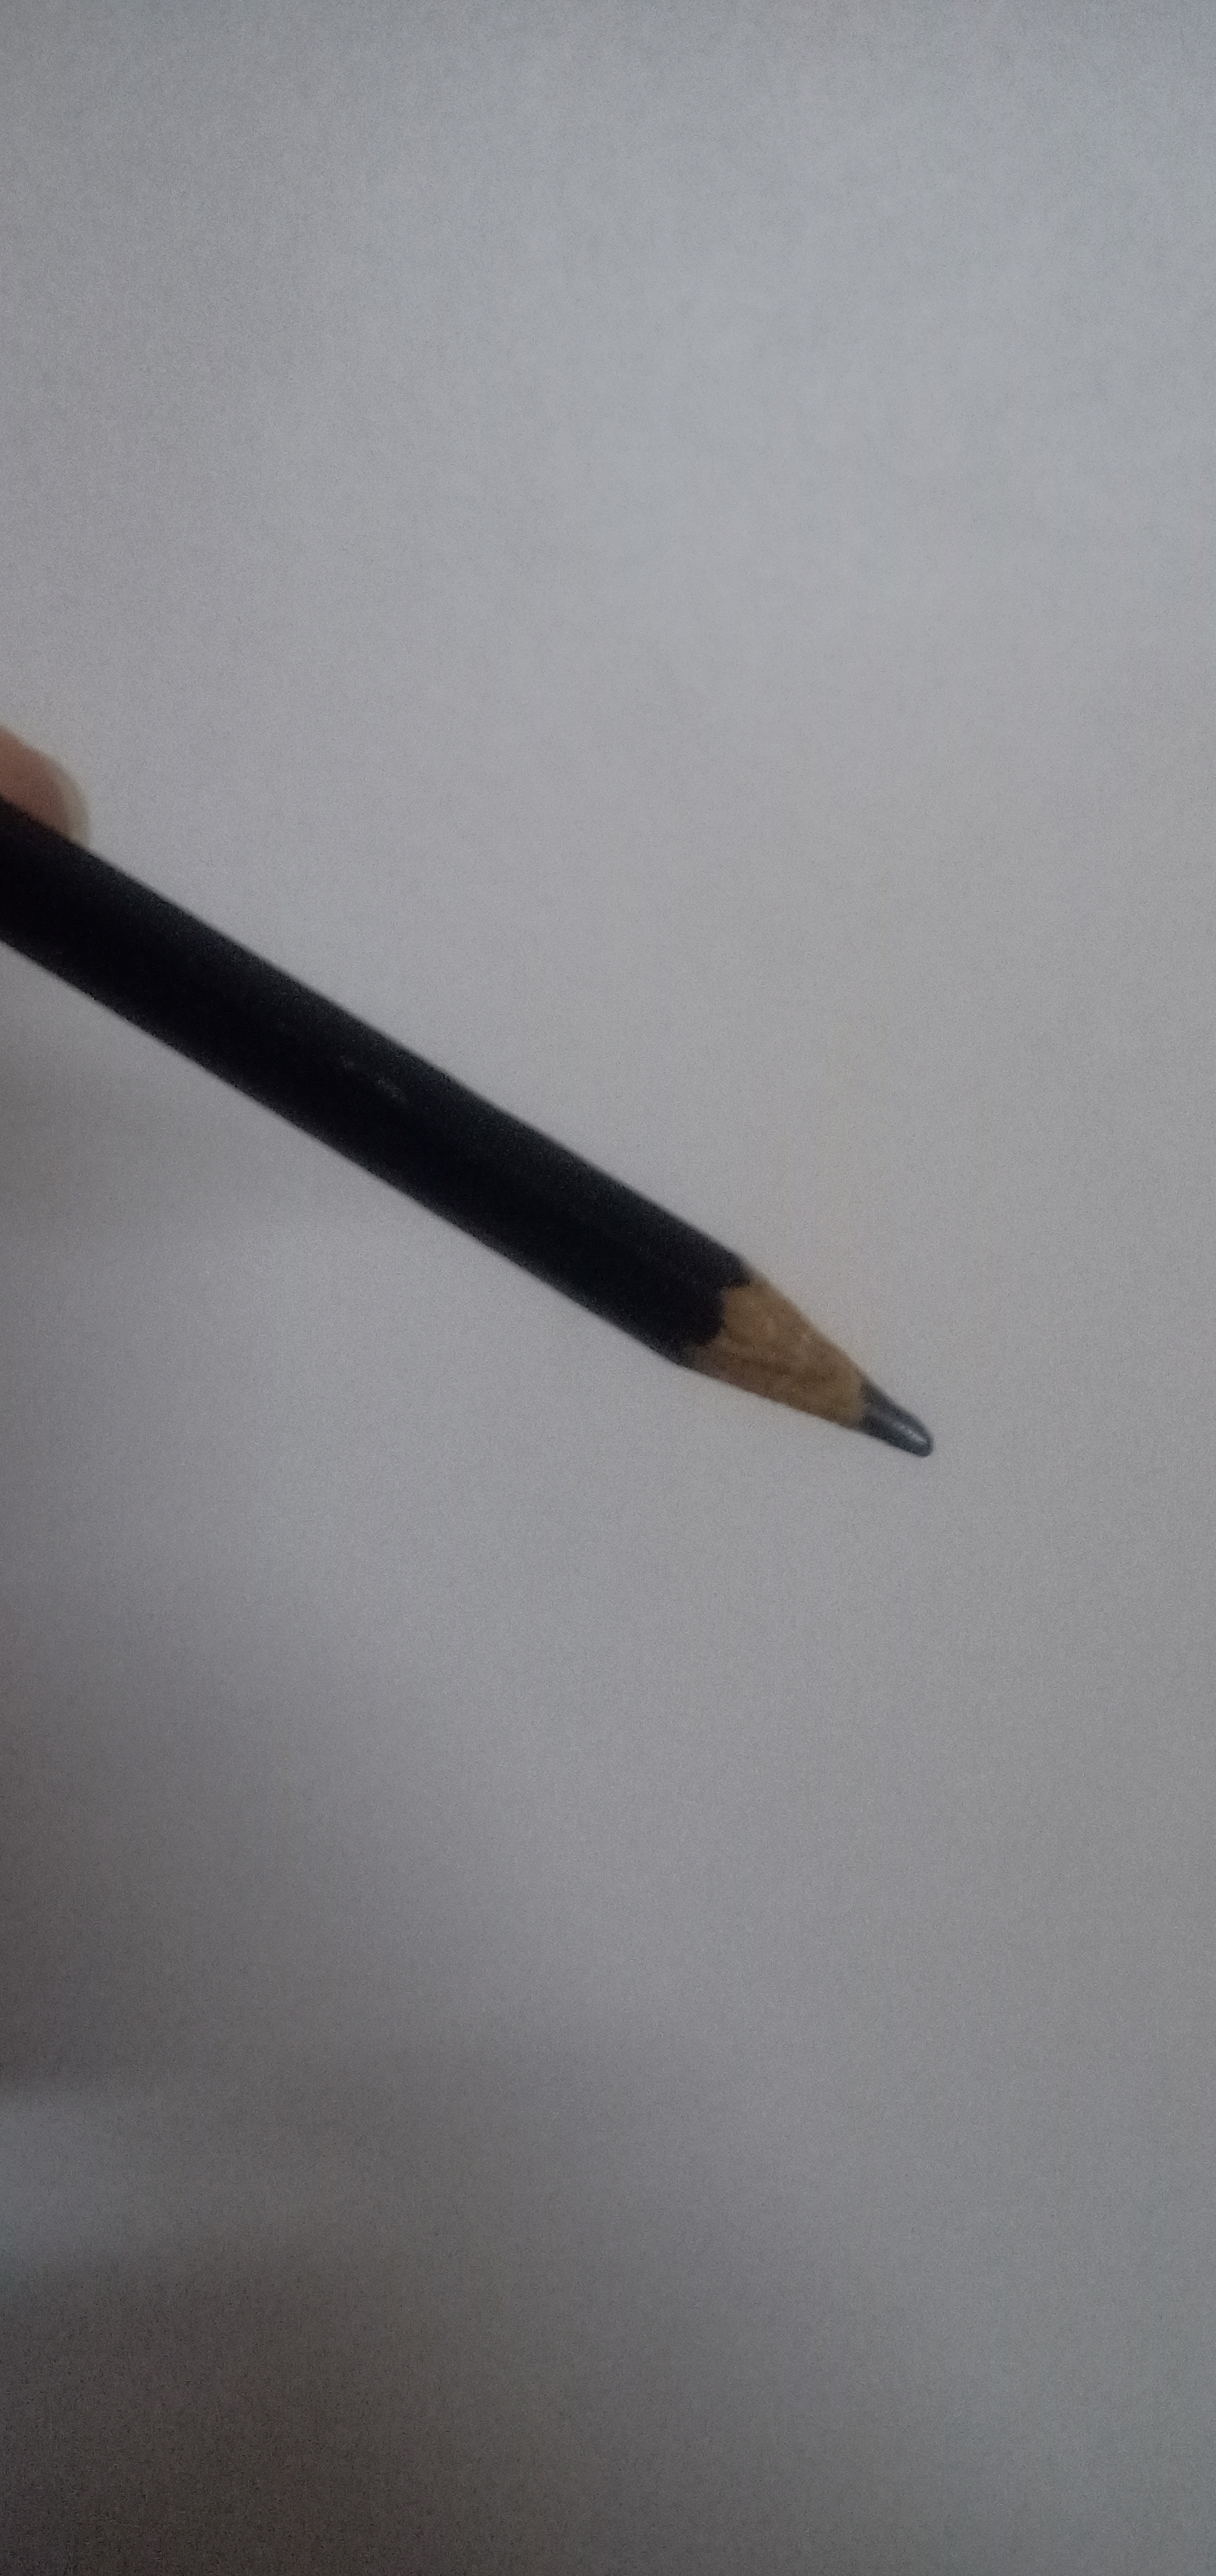pen_tip: (578, 1185, 1063, 1551)
